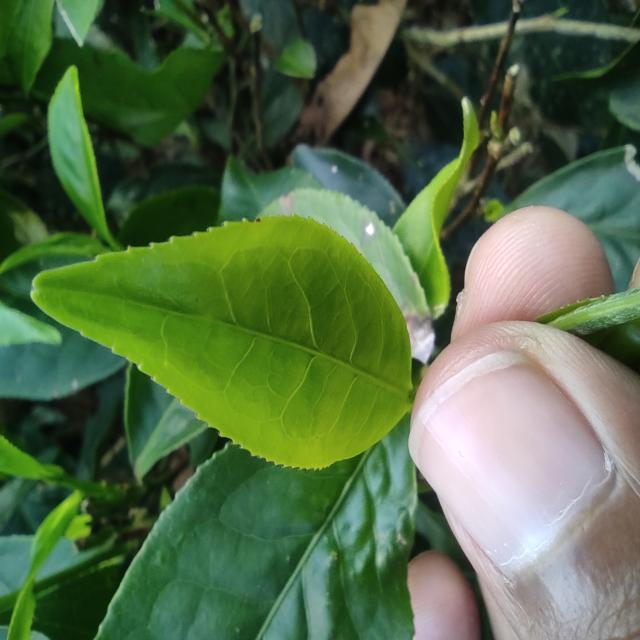Category C 4-7 days: (6, 165, 423, 496)
